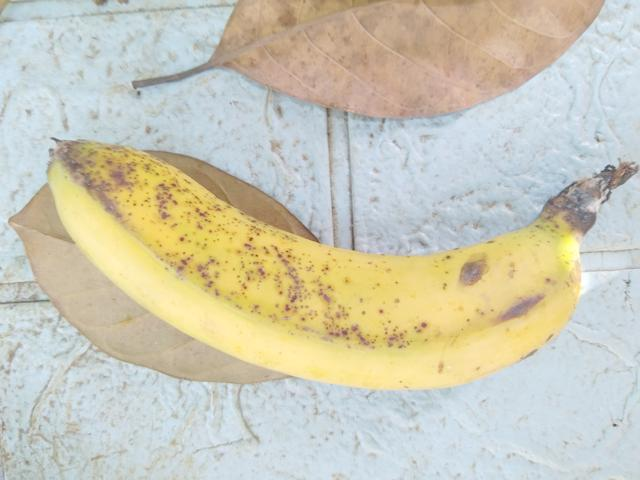ripe: (31, 116, 612, 424)
